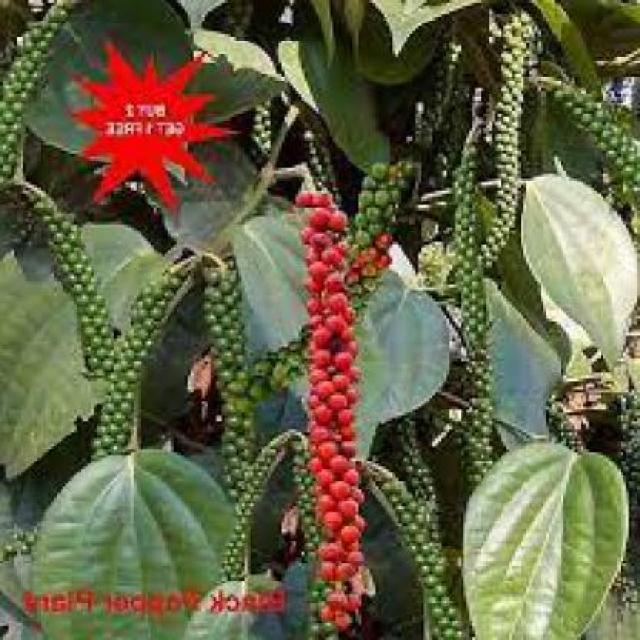RIPE: (299, 185, 362, 623)
UNRIPE: (100, 259, 185, 450), (479, 3, 536, 255), (453, 122, 493, 473), (5, 0, 77, 183), (402, 422, 463, 620), (540, 82, 640, 191), (220, 237, 257, 505), (626, 386, 639, 612)
